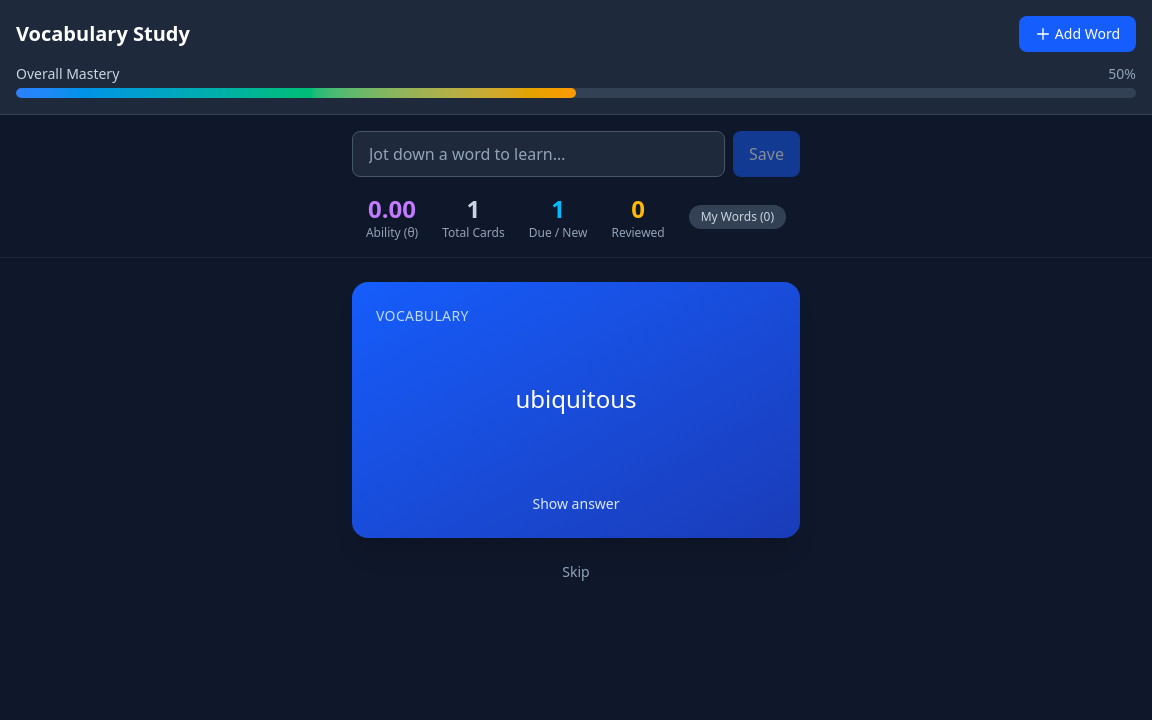
Test: VocabularyStudy › pauses study shortcuts while the add-word dialog is open
This screenshot has width=1152, height=720.
Click the button "Add Word" at (1077, 34), box left=1019, top=16, right=1136, bottom=52
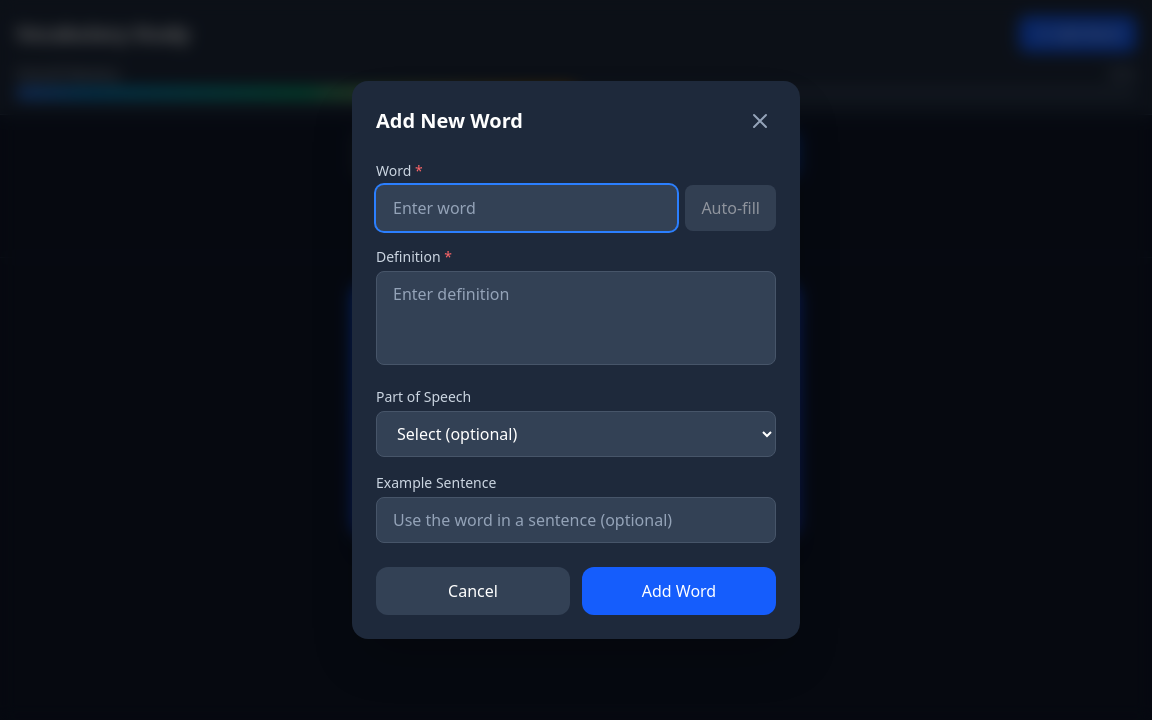
Press s
Click the button named "Close dialog" at (760, 121), box left=744, top=105, right=776, bottom=137
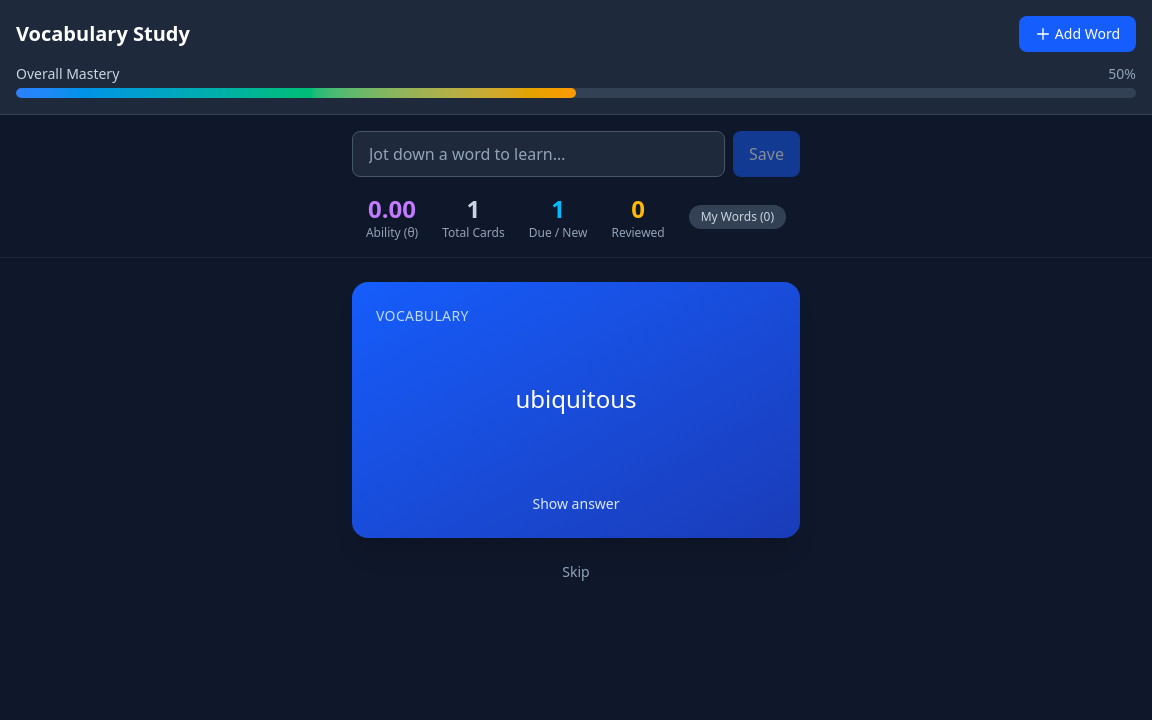
Expected: the text "ubiquitous" is shown, left=516, top=378, right=637, bottom=418
Press s
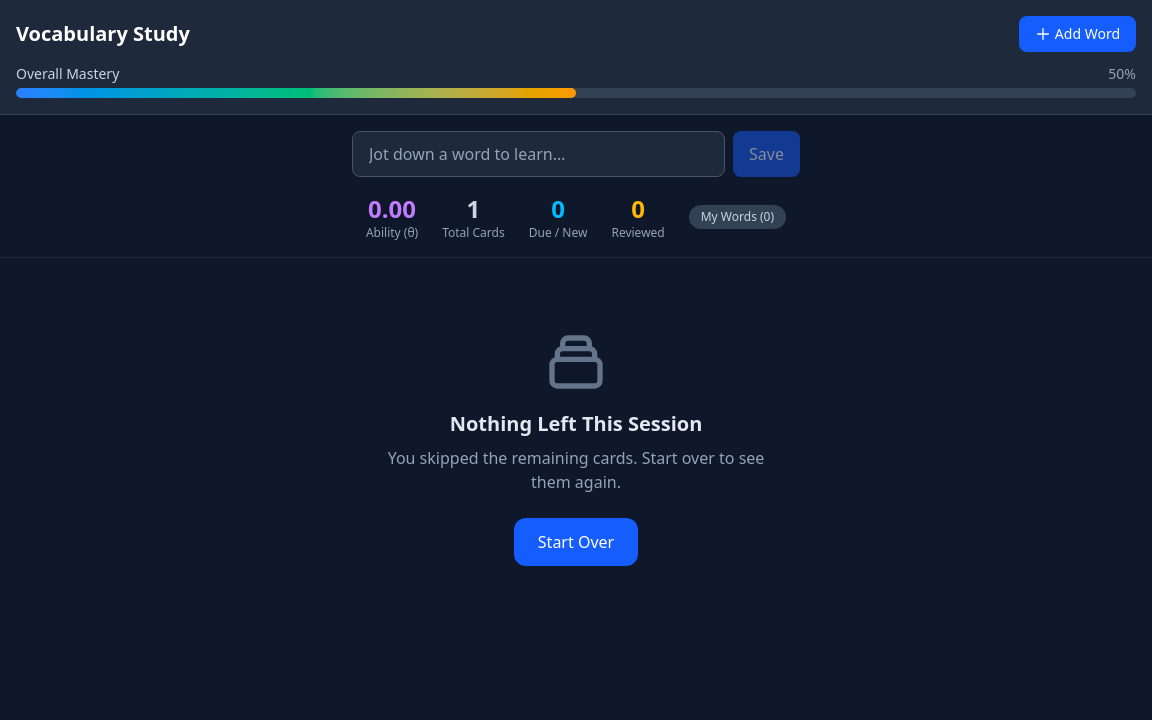
Expected: the heading "Nothing Left This Session" is shown, left=450, top=410, right=702, bottom=438
